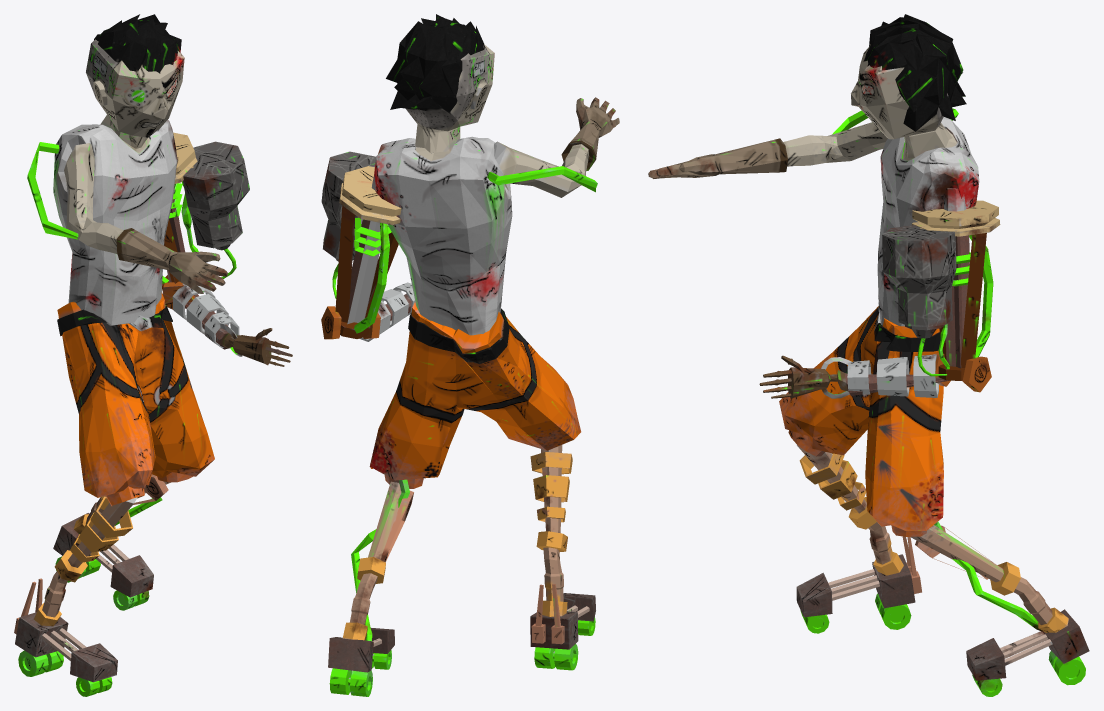
File: CyborgFINALAnimation_000015.obj
The picture shows the model from 3 angles, left to right: view 1: azimuth 30°, elevation 25°; view 2: azimuth 150°, elevation 25°; view 3: azimuth 270°, elevation 25°; orthographic projection. The views are drawn at different scales.
Parts seen in each view (by area): view 1: CyborgMesh_Cube.002; view 2: CyborgMesh_Cube.002; view 3: CyborgMesh_Cube.002.
Part boxes in pixels (x1=…): CyborgMesh_Cube.002: x1=14, y1=14, x2=292, y2=696; CyborgMesh_Cube.002: x1=321, y1=14, x2=619, y2=696; CyborgMesh_Cube.002: x1=648, y1=14, x2=1089, y2=696.
Size of the model in its own units: 3.58 by 8.99 by 5.49.
